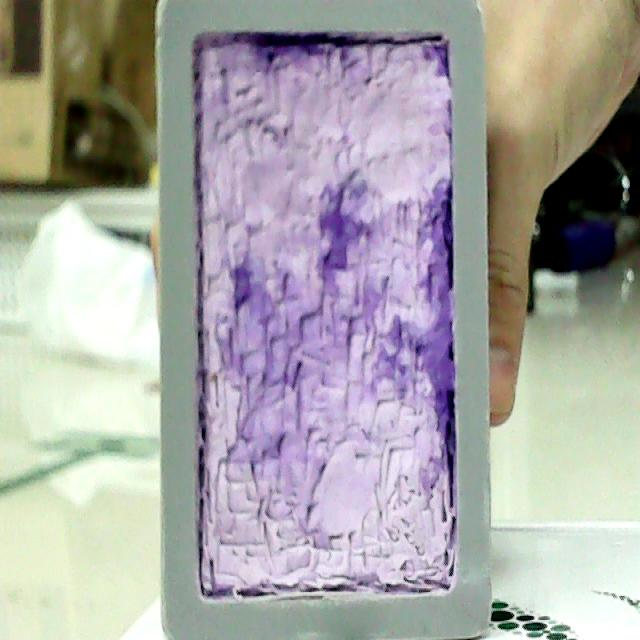block: (149, 2, 497, 640)
